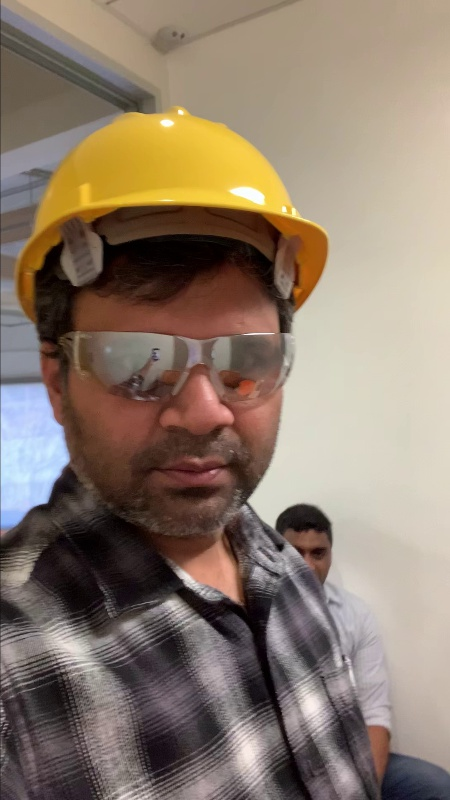glasses: (72, 326, 295, 403)
helmet: (36, 108, 316, 234)
